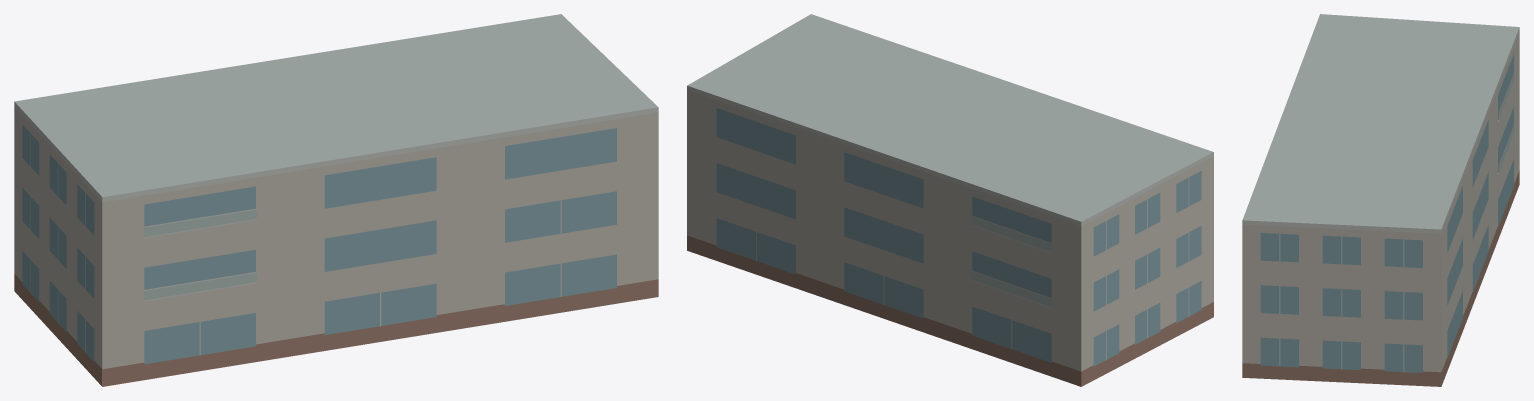
File: survey-upis-32678215.glb
The picture shows the model from 3 angles, left to right: view 1: azimuth 30°, elevation 25°; view 2: azimuth 150°, elevation 25°; view 3: azimuth 270°, elevation 25°; orthographic projection. The views are drawn at different scales.
Parts seen in each view (by area): view 1: survey-upis-32678215.tmp; view 2: survey-upis-32678215.tmp; view 3: survey-upis-32678215.tmp.
Part boxes in pixels (x1=…): survey-upis-32678215.tmp: x1=14, y1=14, x2=658, y2=386; survey-upis-32678215.tmp: x1=687, y1=14, x2=1213, y2=386; survey-upis-32678215.tmp: x1=1242, y1=14, x2=1519, y2=386.
Bounding box in the file's own units: 26.87 × 9.15 × 14.62.
